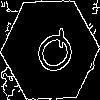Q: (25, 25, 80, 84)
